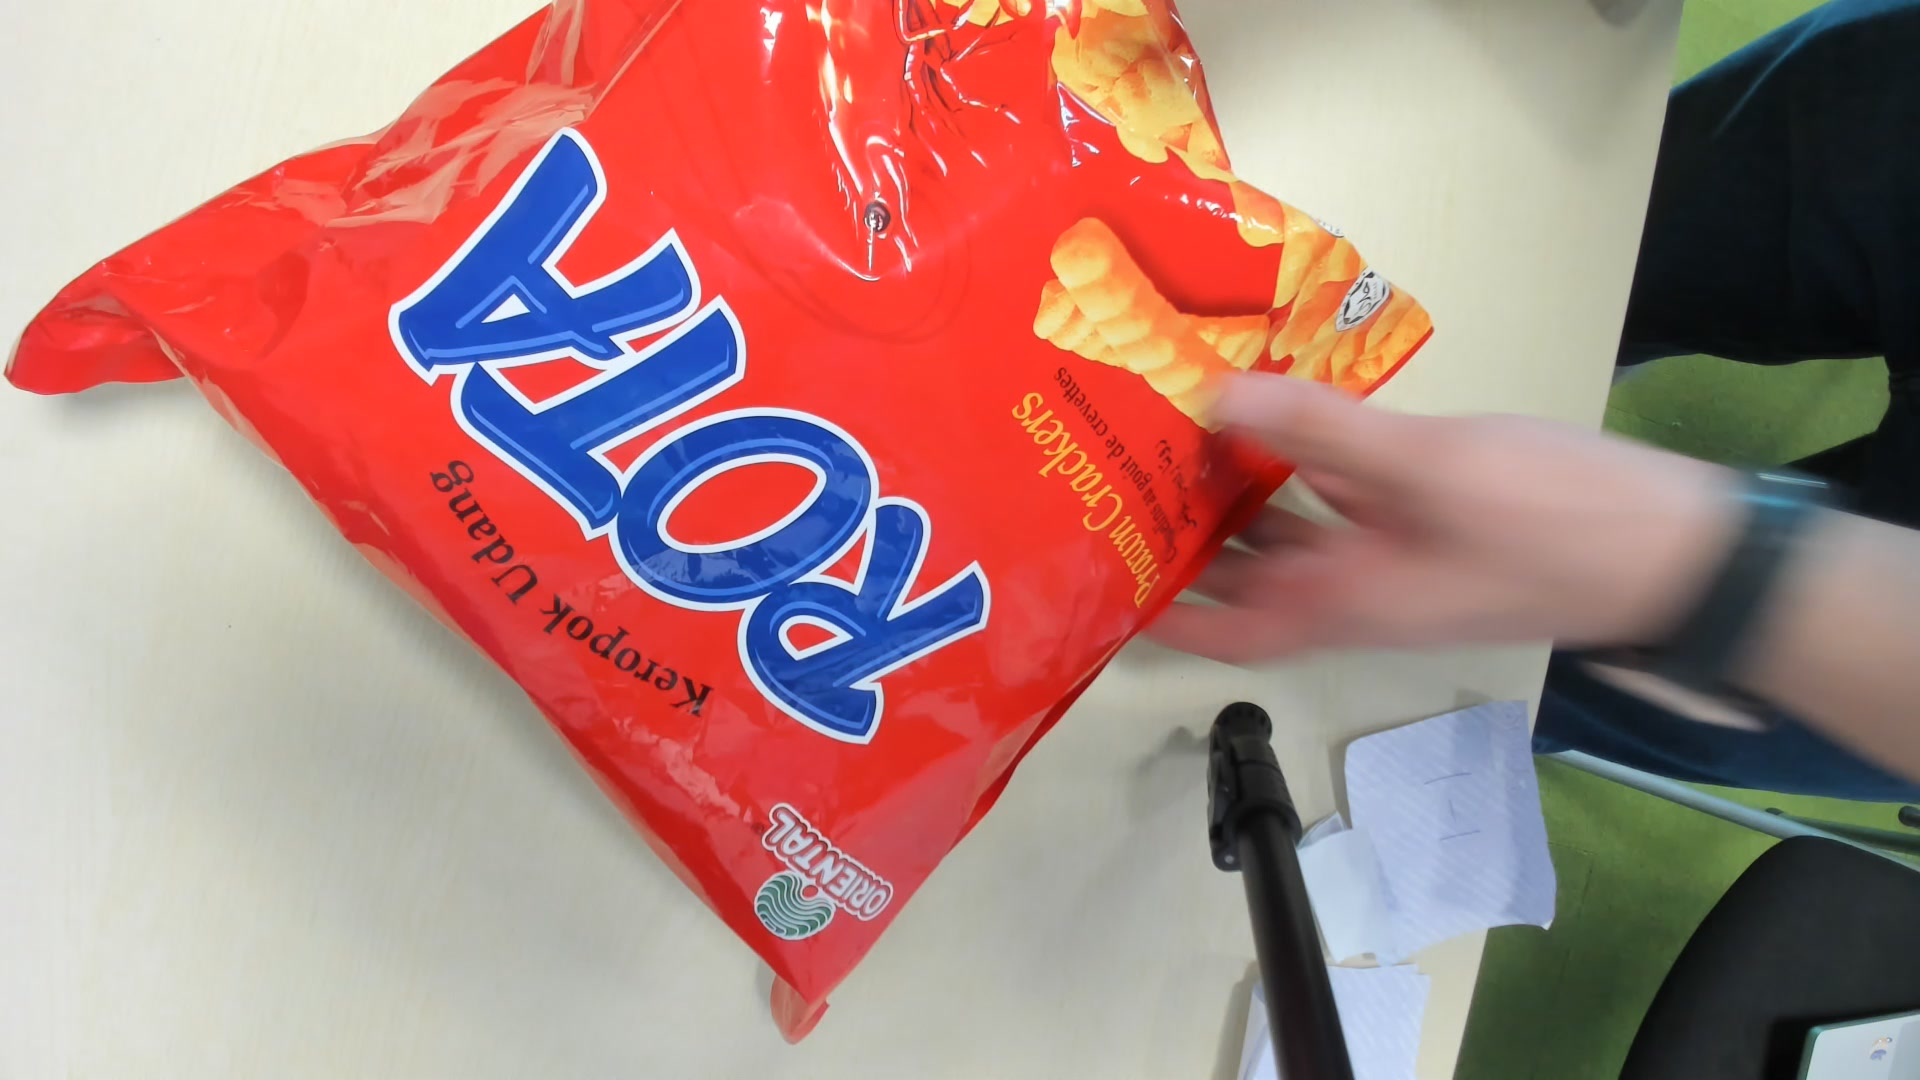PotatoChipsKeropok_100-199g_Halal_NonHealthy: (84, 1, 1422, 1034)
